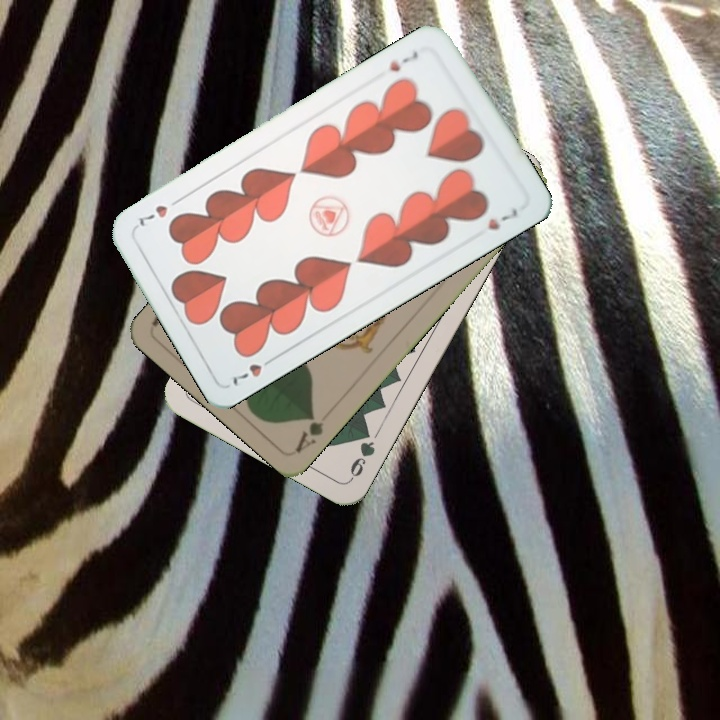G9: (345, 424, 378, 483)
GA: (291, 410, 326, 456)
H7: (228, 352, 279, 389), (385, 46, 422, 75)
